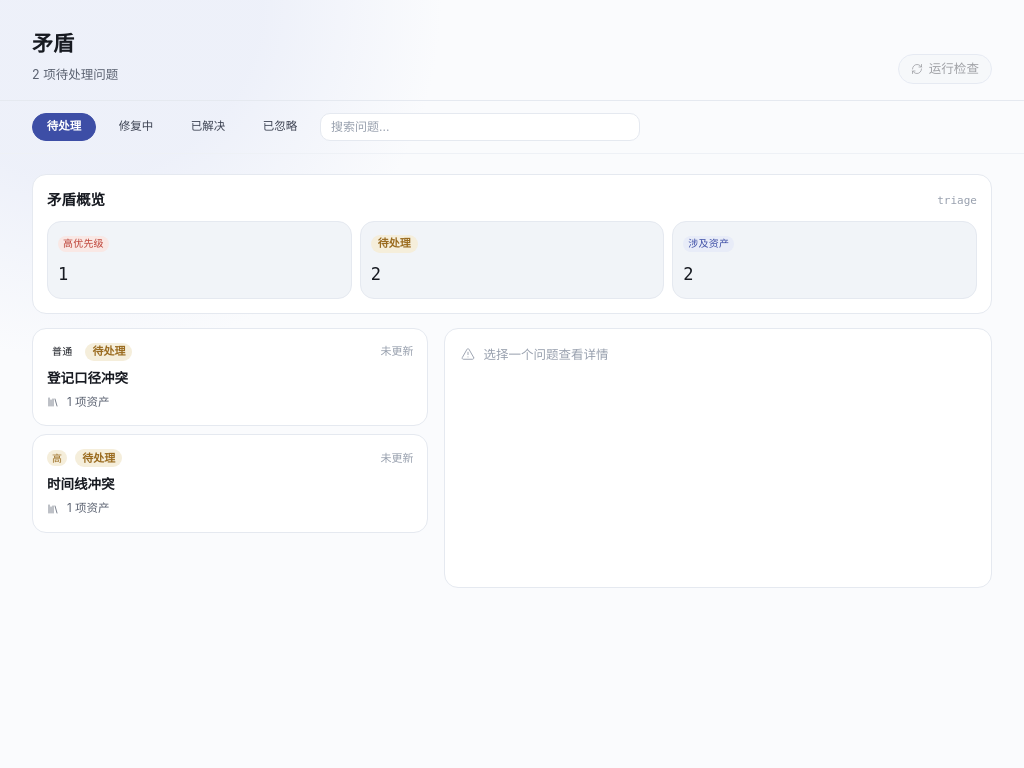
ConsistencyIssuesPage › filters the loaded issue list locally when searching
Type "登记" into the field named "搜索一致性问题" at [480, 127], box [320,113,640,141]
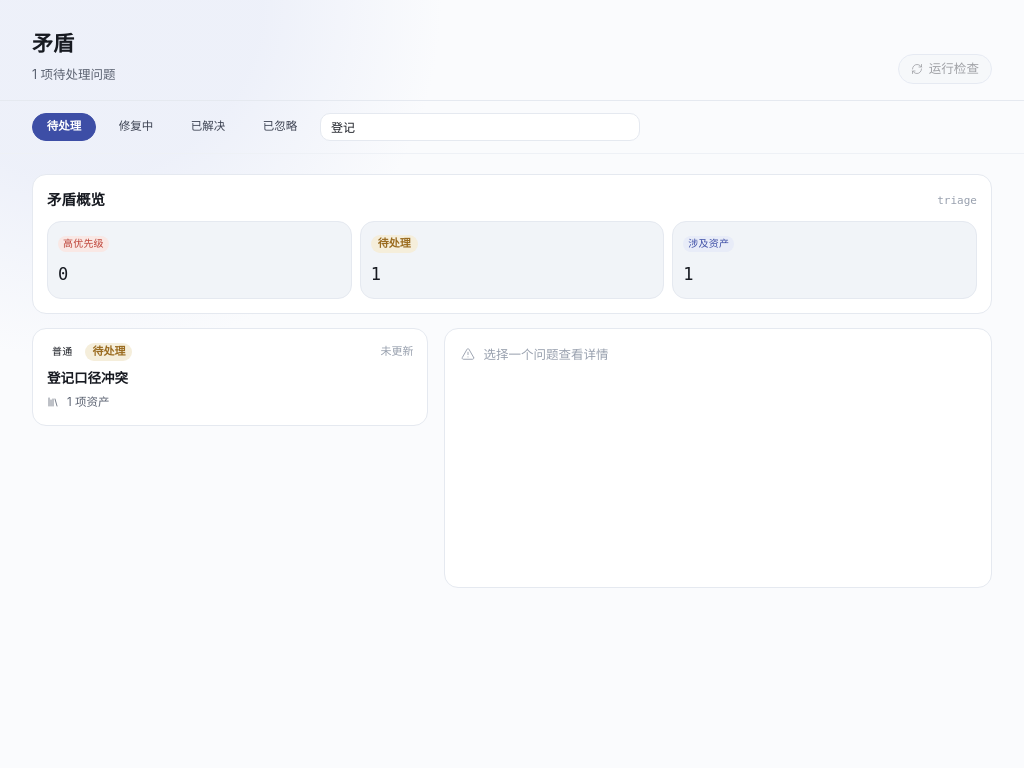
Expected: the text "登记口径冲突" is shown, [47,370,128,386]
Result: the button "时间线冲突" is gone
